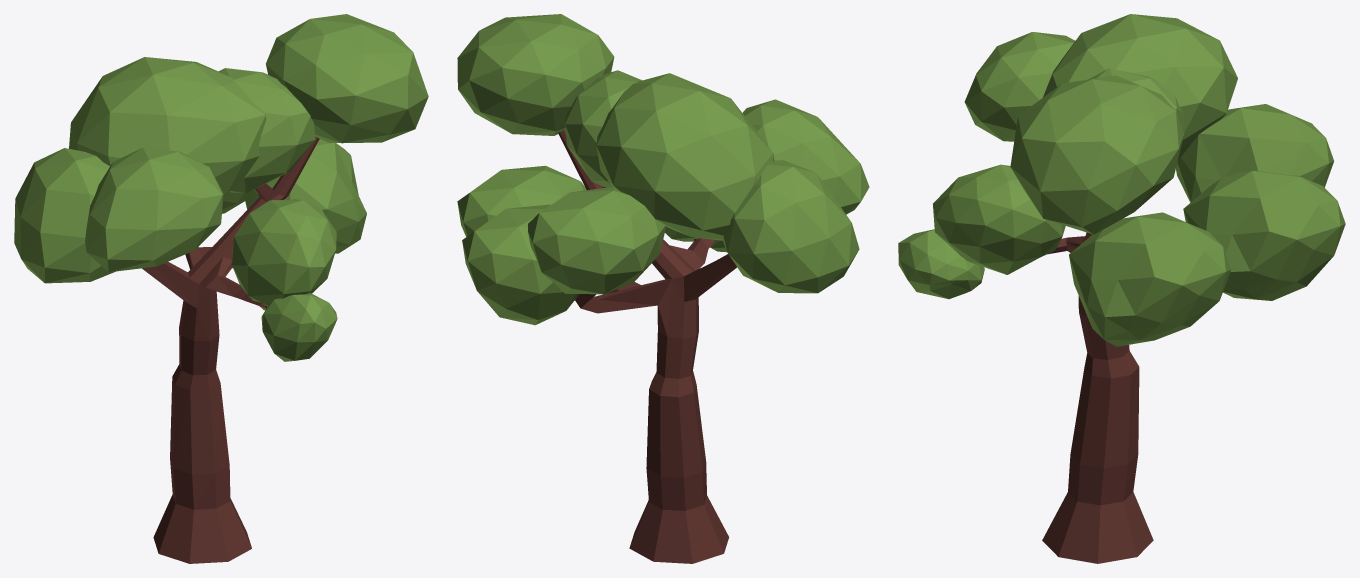
Rendered from arbol frondoso.fbx.
3 renders of one model, left to right at view 1: azimuth 30°, elevation 25°; view 2: azimuth 150°, elevation 25°; view 3: azimuth 270°, elevation 25°, orthographic. The views are drawn at different scales.
Visible parts, largest first — view 1: arbol_alto; view 2: arbol_alto; view 3: arbol_alto.
Boxes of the visible parts, x1,y1,x2,y2 form: arbol_alto: [14, 14, 428, 563]; arbol_alto: [457, 14, 869, 563]; arbol_alto: [898, 14, 1345, 563].
Bounding box in the file's own units: 1070 × 1280 × 989.
